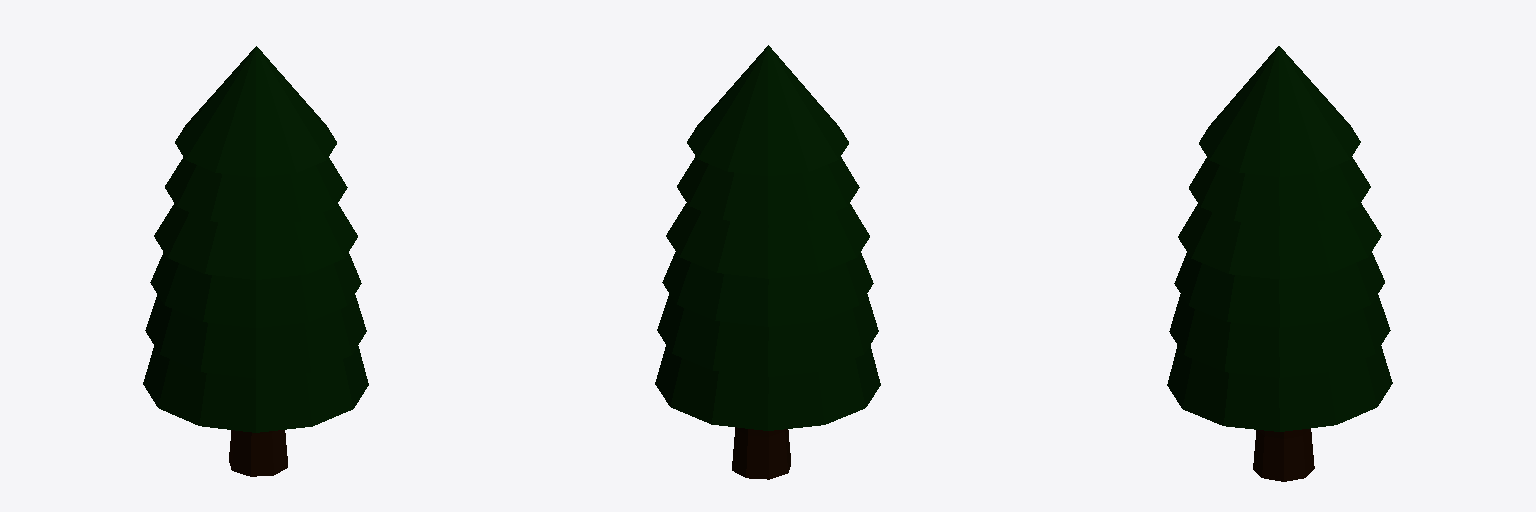
The model's file is Tree3.1.obj.
The picture shows the model from 3 angles: view 1: azimuth 30°, elevation 25°; view 2: azimuth 150°, elevation 25°; view 3: azimuth 270°, elevation 25°; orthographic projection.
Visible parts, largest first — view 1: Tree3.1_Cylinder.001; view 2: Tree3.1_Cylinder.001; view 3: Tree3.1_Cylinder.001.
Boxes of the visible parts, x1,y1,x2,y2 form: Tree3.1_Cylinder.001: [143, 46, 368, 476]; Tree3.1_Cylinder.001: [655, 45, 880, 479]; Tree3.1_Cylinder.001: [1167, 46, 1392, 481].
Bounding box in the file's own units: 3.21 × 6.6 × 3.2.